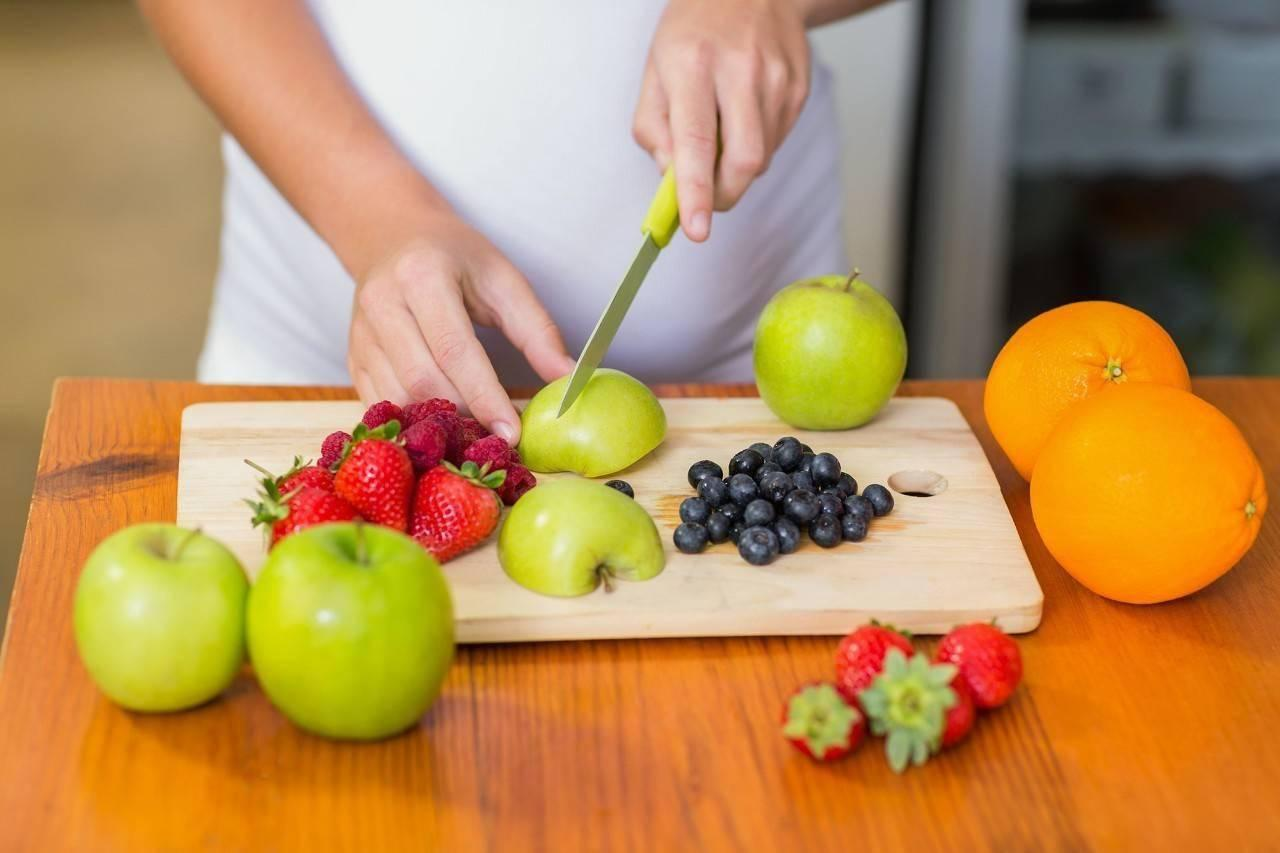apple: (244, 524, 456, 744), (68, 521, 248, 714), (751, 271, 909, 432), (495, 480, 666, 598), (513, 367, 667, 479)
